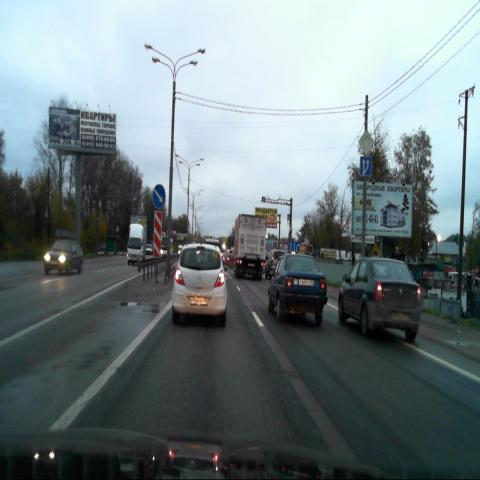2_1: (359, 129, 373, 155)
4_2_1: (152, 185, 166, 210)
5_15_3: (360, 155, 372, 177)
